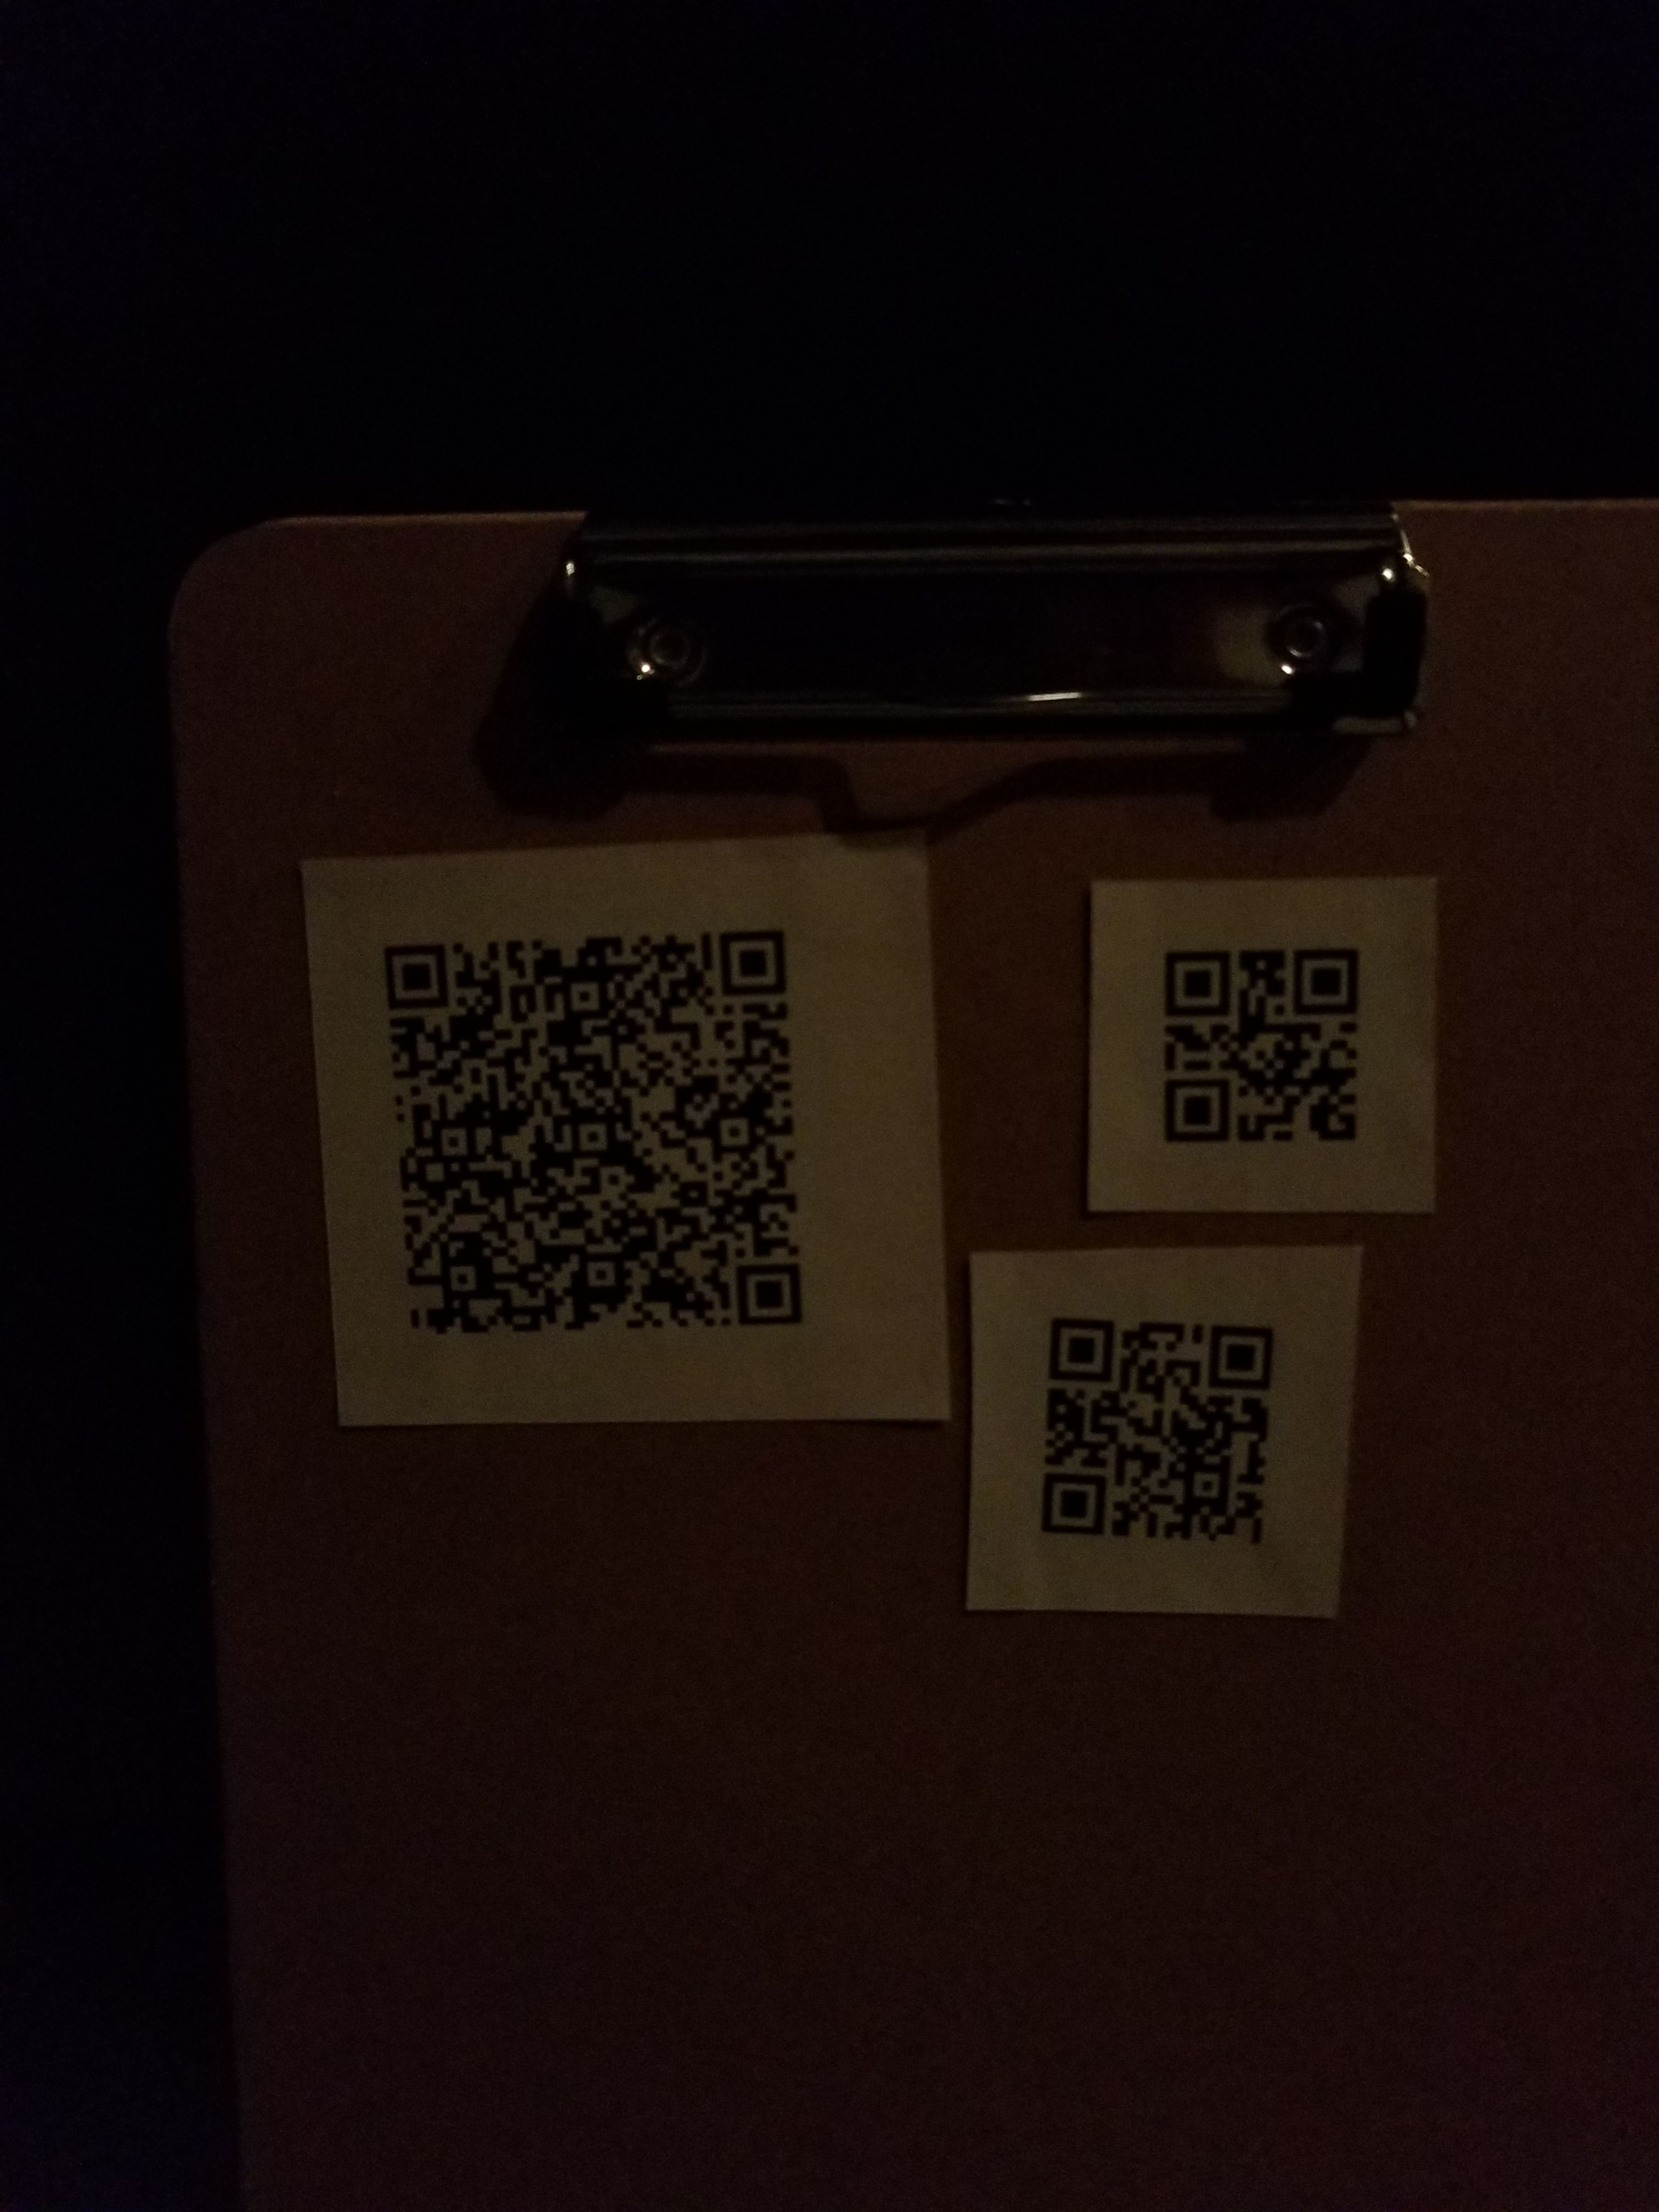QR_CODE: (345, 880, 828, 1355), (1011, 1296, 1305, 1581), (1122, 895, 1398, 1181)
